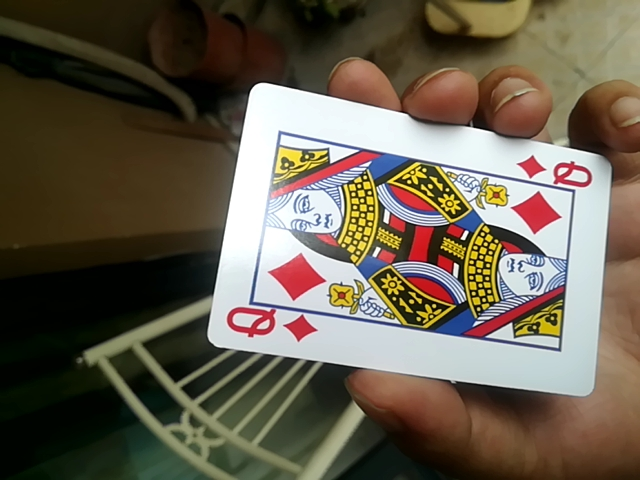fk q: (207, 82, 621, 400)
